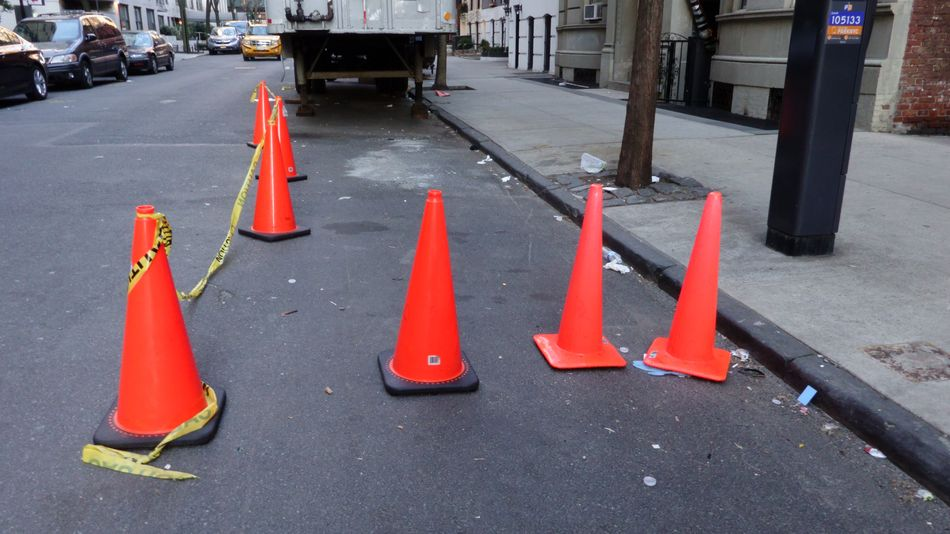cones: (95, 202, 231, 453), (373, 190, 482, 395), (533, 181, 632, 376), (640, 190, 739, 382)
